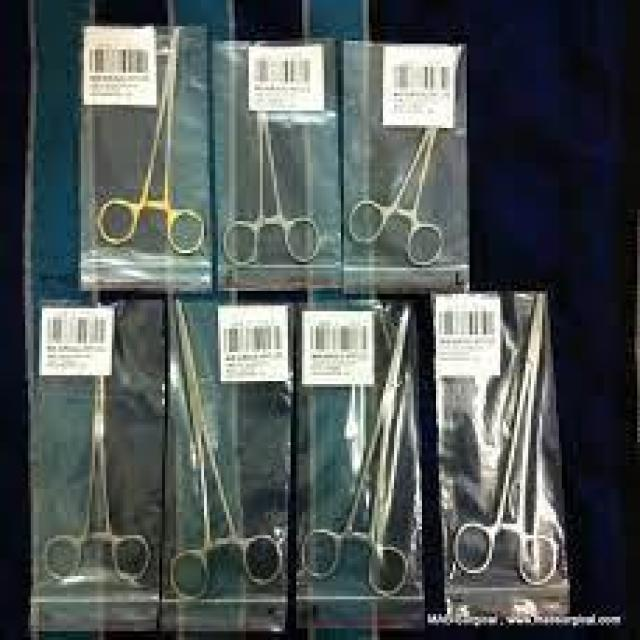B3: (438, 288, 576, 596), (162, 297, 288, 602), (296, 312, 419, 594), (36, 296, 151, 590), (92, 26, 212, 265), (215, 38, 327, 270), (344, 64, 450, 276)
